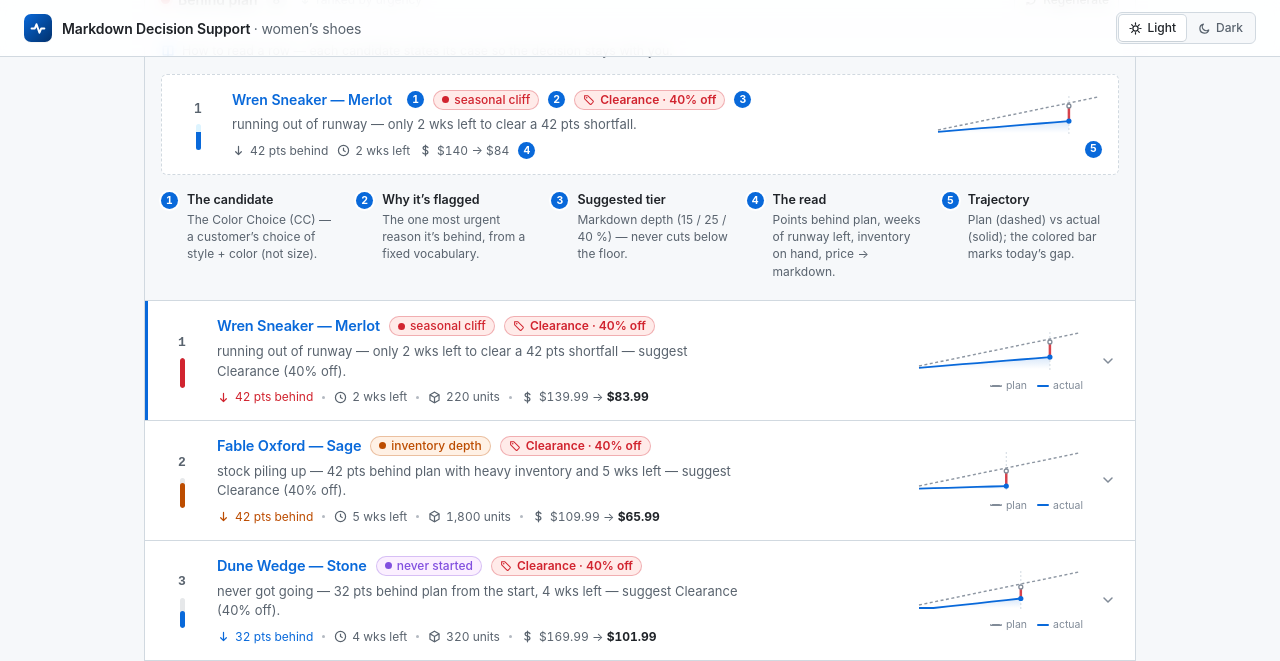
Test: MarkdownSurface — expandable detail panel › is collapsed by default and toggles open/closed
The width and height of the screenshot is (1280, 661).
(page scrolled)
Click the button that starts with "Wren Sneaker — Merlot". click: (640, 361)
box: [145,301,1135,420]
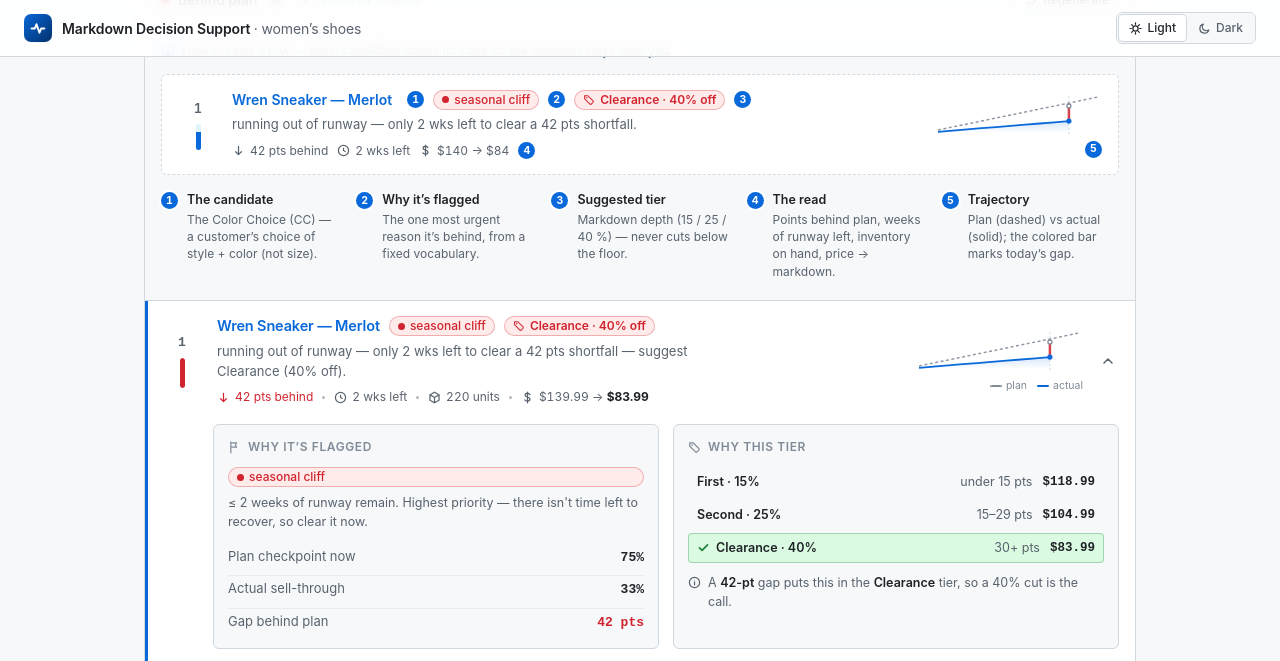
Check: the button that starts with "Wren Sneaker — Merlot" is expanded
Click the button that starts with "Wren Sneaker — Merlot". click: (640, 361)
box: [145,301,1135,420]
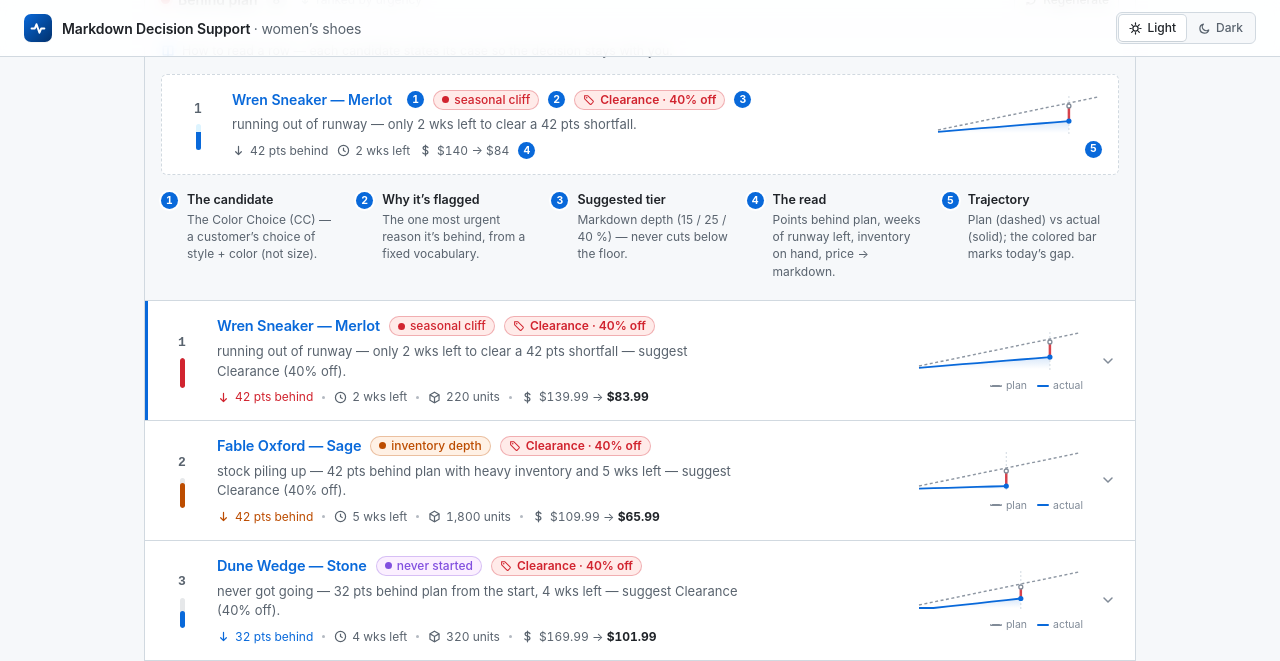
Check: the button that starts with "Wren Sneaker — Merlot" is collapsed, box [145,301,1135,420]
